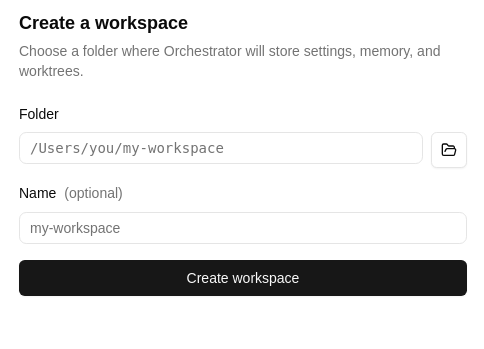
it: shows error message when createWorkspace fails
This screenshot has width=484, height=349.
Type "/System/restricted" into the field labelled "Folder" at x=221, y=148, box [19,132,423,164]
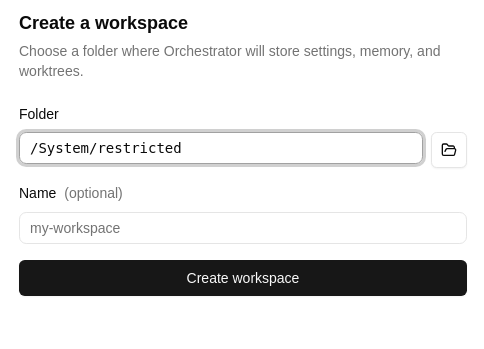
Click the button "Create workspace" at x=243, y=278, box [19,260,467,296]
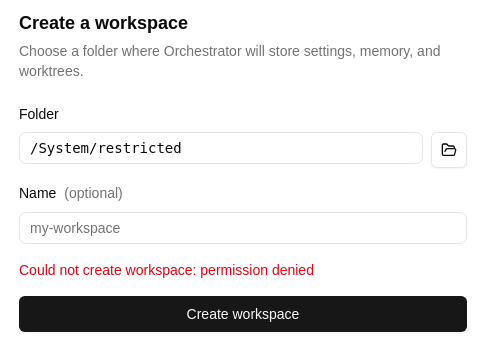
expect the message shows "permission denied": met, box [19,262,314,278]
